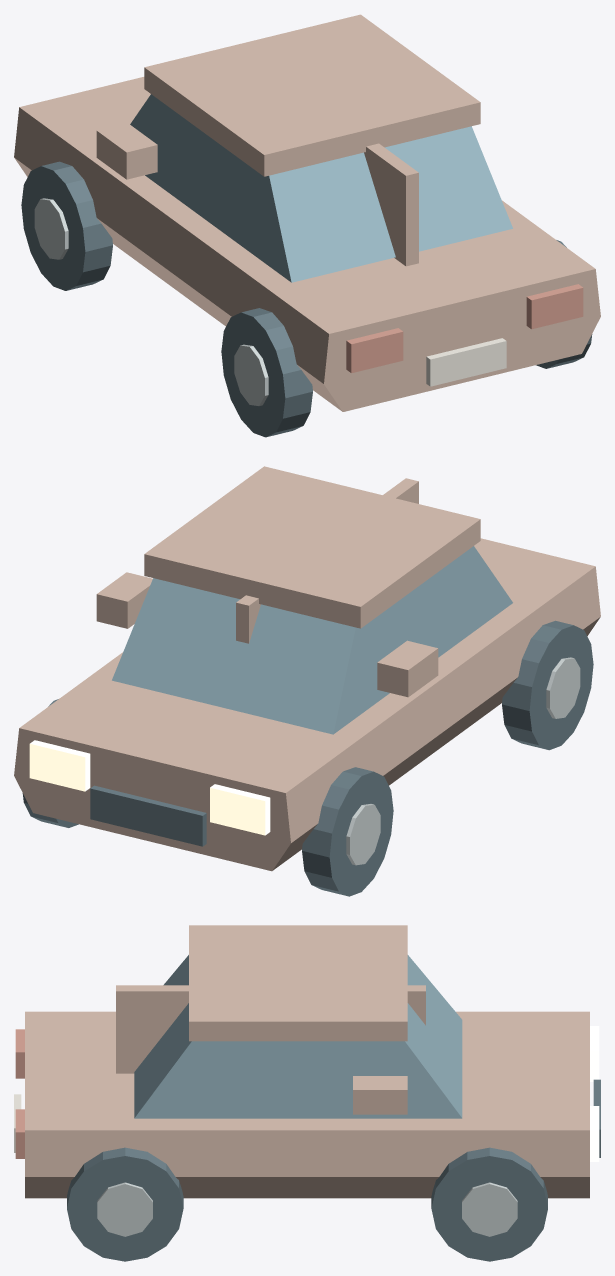
The model's file is remaster_car_7.glb.
The picture shows the model from 3 angles, top to bottom: view 1: azimuth 30°, elevation 25°; view 2: azimuth 150°, elevation 25°; view 3: azimuth 270°, elevation 25°; orthographic projection. The views are drawn at different scales.
Visible parts, largest first — view 1: remaster_car_7 brick, remaster_car_7 glass, remaster_car_7 dark, remaster_car_7 red, remaster_car_7 metal, remaster_car_7 white; view 2: remaster_car_7 brick, remaster_car_7 glass, remaster_car_7 dark, remaster_car_7 warm, remaster_car_7 metal; view 3: remaster_car_7 brick, remaster_car_7 glass, remaster_car_7 dark, remaster_car_7 metal, remaster_car_7 warm, remaster_car_7 red.
Part boxes in pixels (box(x1,y1,x2,y2)): remaster_car_7 brick: box(14, 14, 600, 411); remaster_car_7 glass: box(130, 94, 512, 282); remaster_car_7 dark: box(21, 161, 592, 437); remaster_car_7 red: box(346, 284, 583, 373); remaster_car_7 metal: box(34, 198, 268, 405); remaster_car_7 white: box(426, 338, 506, 386); remaster_car_7 brick: box(14, 466, 600, 871); remaster_car_7 glass: box(112, 546, 512, 734); remaster_car_7 dark: box(22, 620, 593, 896); remaster_car_7 warm: box(29, 740, 270, 835); remaster_car_7 metal: box(346, 657, 580, 865); remaster_car_7 brick: box(25, 925, 589, 1198); remaster_car_7 glass: box(134, 955, 462, 1118); remaster_car_7 dark: box(67, 1079, 600, 1261); remaster_car_7 metal: box(97, 1182, 517, 1236); remaster_car_7 warm: box(590, 1026, 599, 1161); remaster_car_7 red: box(15, 1029, 24, 1158).
Size of the model in its own units: 1.82 by 1.33 by 3.22.
